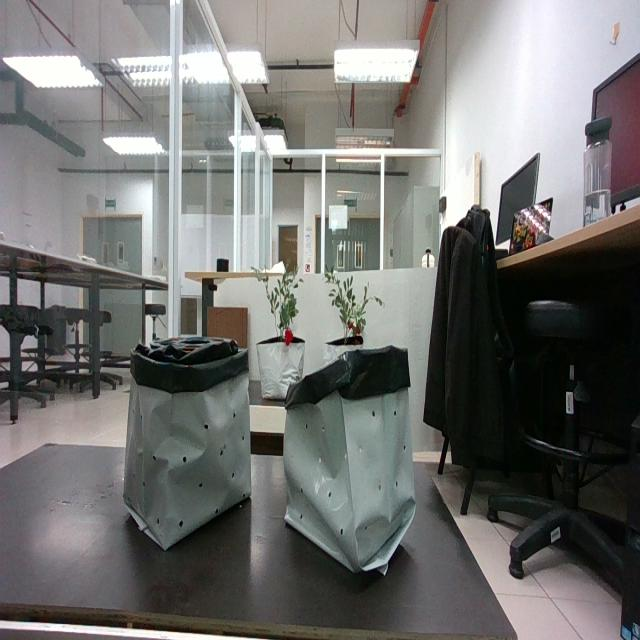Soilbag: (282, 348, 416, 578), (122, 337, 252, 552)
